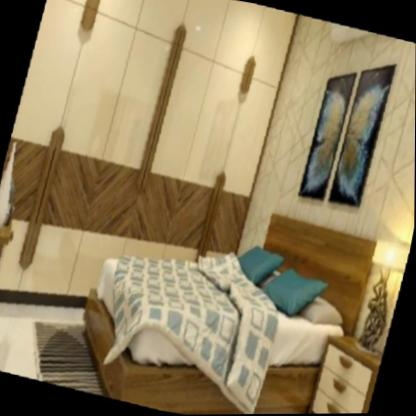Bed: (76, 186, 356, 416)
Lamp: (346, 230, 411, 353)
Nightstand: (304, 325, 381, 414)
